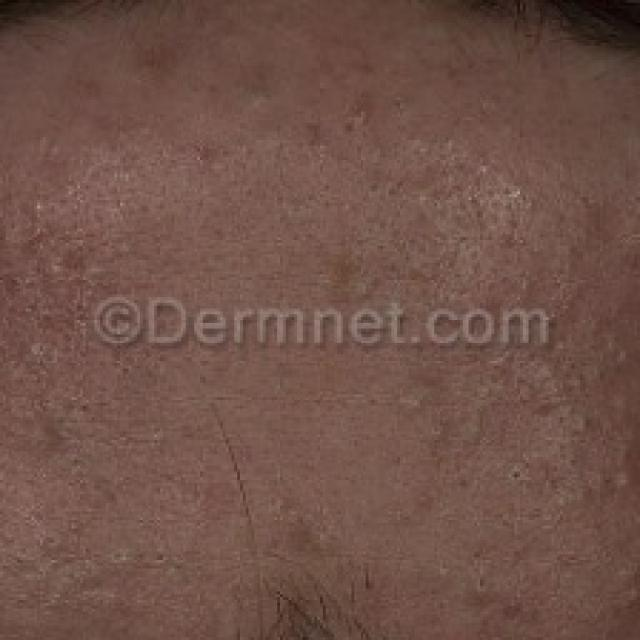Acne: (6, 61, 634, 607)
